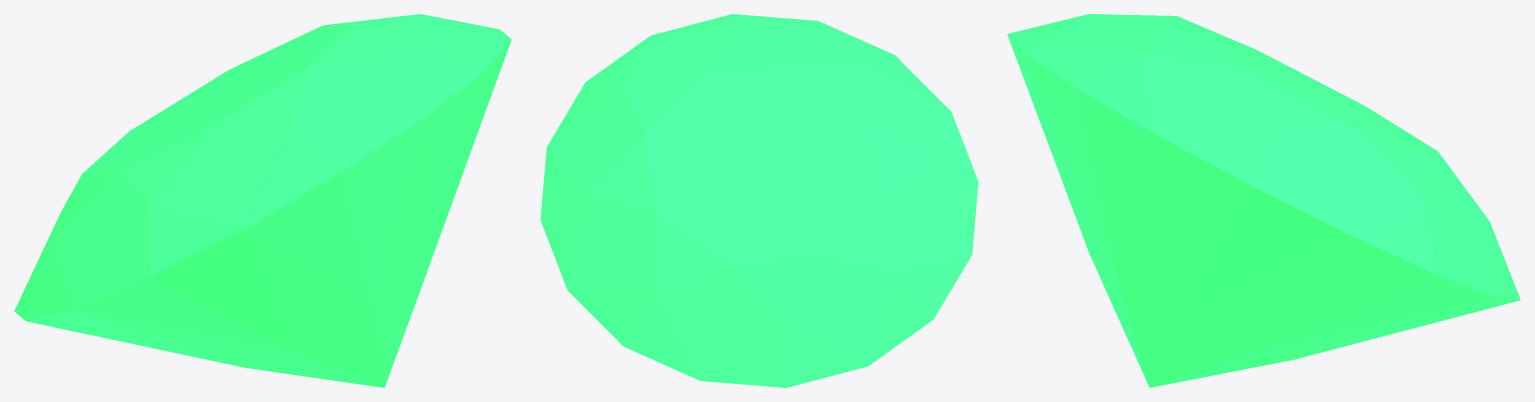
File: SM_Gem_Emerald.fbx
3 renders of one model, left to right at view 1: azimuth 30°, elevation 25°; view 2: azimuth 150°, elevation 25°; view 3: azimuth 270°, elevation 25°, orthographic. The views are drawn at different scales.
Parts seen in each view (by area): view 1: SM_Gem_Emerald; view 2: SM_Gem_Emerald; view 3: SM_Gem_Emerald.
Part boxes in pixels (x1=…): SM_Gem_Emerald: x1=14, y1=14, x2=511, y2=387; SM_Gem_Emerald: x1=540, y1=14, x2=978, y2=387; SM_Gem_Emerald: x1=1007, y1=14, x2=1520, y2=387.
Size of the model in its own units: 1.18 by 0.8244 by 1.12.
Materials: 1 (1 with a texture image).
